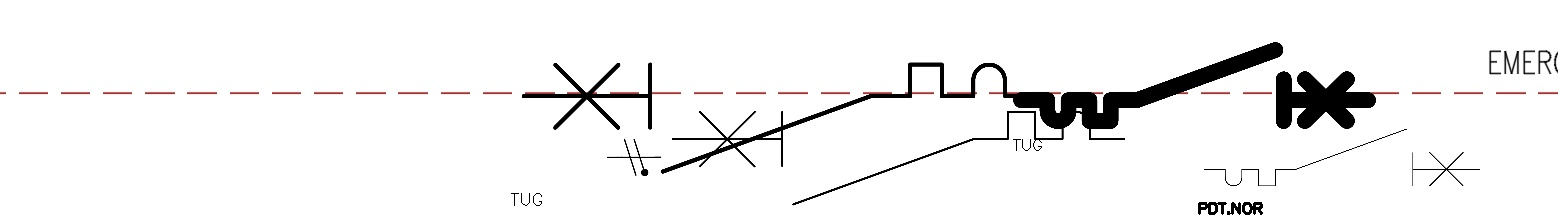interruptor_termomagnetico: (510, 51, 1058, 185), (660, 100, 1135, 216), (1012, 41, 1376, 130), (1197, 122, 1487, 193)
